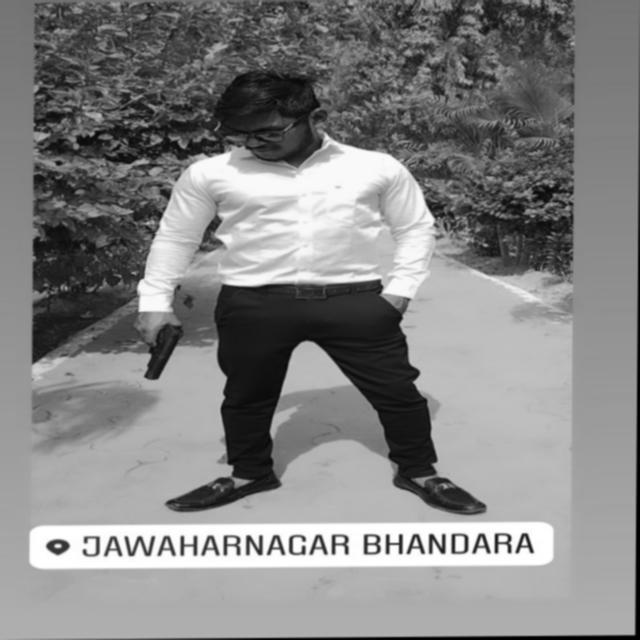weapon: (126, 314, 196, 384)
